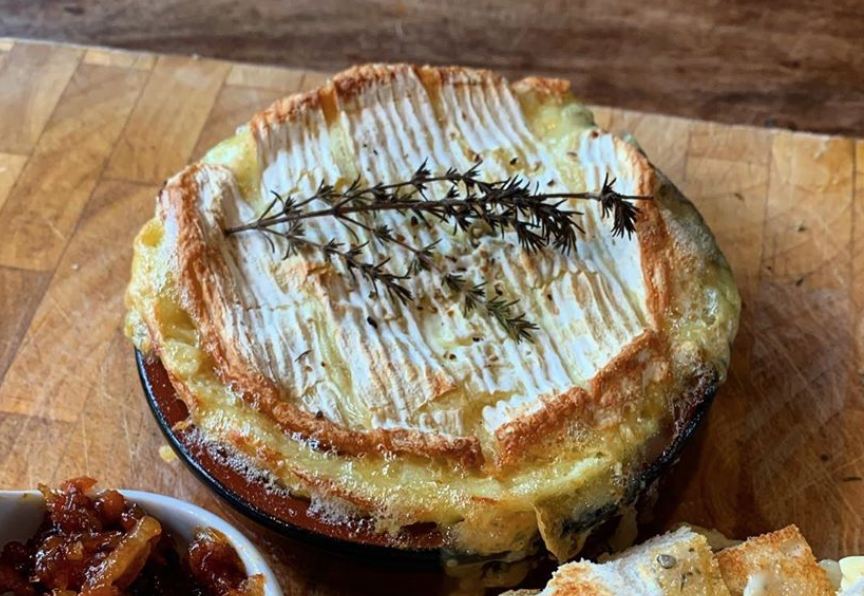camembert: (130, 62, 732, 529)
